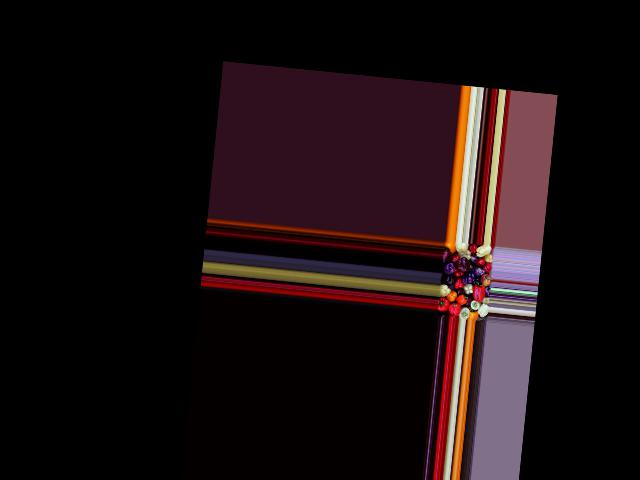bell_pepper: (458, 305, 469, 319)
